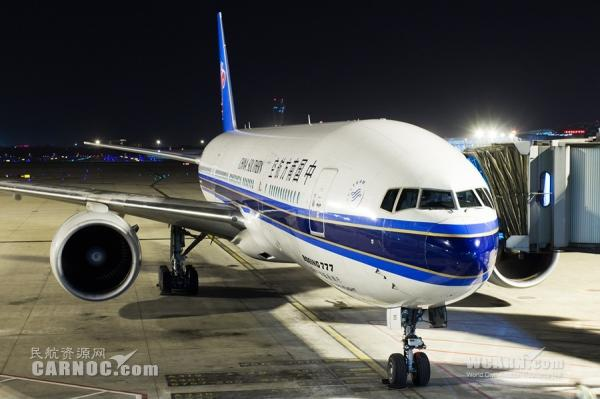airplane: (1, 11, 554, 383)
